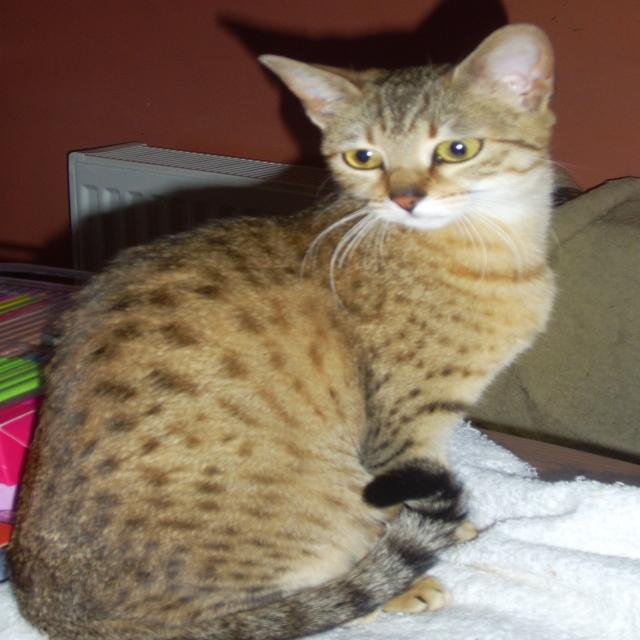Egyptian Mau: (2, 15, 562, 640)
